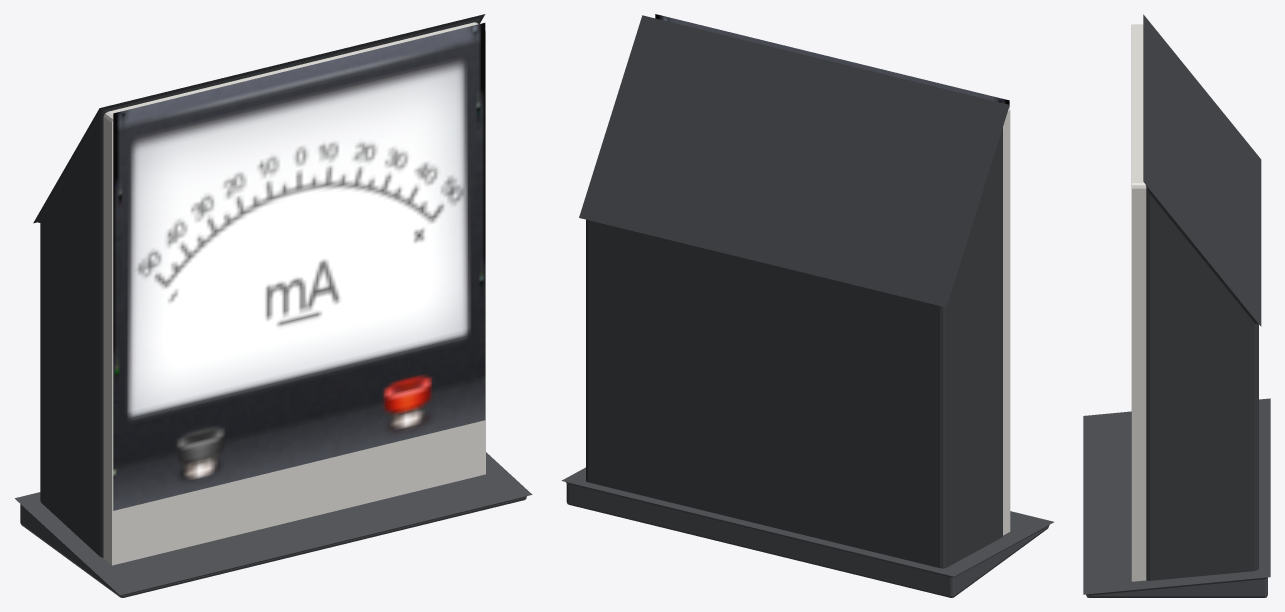
The model's file is ammeter.glb.
3 views of the same model, side by side, from view 1: azimuth 30°, elevation 25°; view 2: azimuth 150°, elevation 25°; view 3: azimuth 270°, elevation 25° (orthographic). The views are drawn at different scales.
Parts seen in each view (by area): view 1: dial, panel, shell, base; view 2: shell, base, panel, dial; view 3: shell, base, panel.
Part boxes in pixels (<box>): dial: <box>113,23,485,510</box>; panel: <box>103,22,485,565</box>; shell: <box>33,14,485,557</box>; base: <box>15,452,532,597</box>; shell: <box>579,15,1009,568</box>; base: <box>561,467,1053,597</box>; panel: <box>1003,107,1010,535</box>; dial: <box>655,14,1009,106</box>; shell: <box>1143,14,1261,580</box>; base: <box>1083,398,1270,597</box>; panel: <box>1131,24,1146,581</box>.
Size of the model in its own units: 1.42 by 1.53 by 0.6299.
4 materials, 1 textured.
